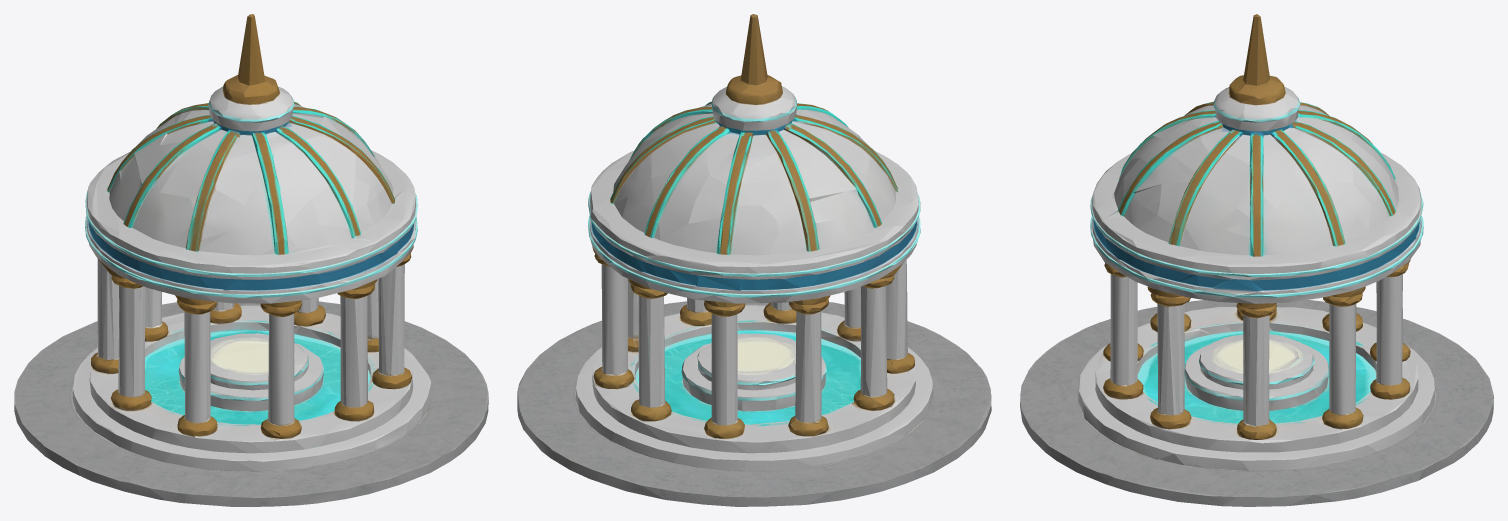
Rendered from hall.glb.
3 views of the same model, side by side, from view 1: azimuth 30°, elevation 25°; view 2: azimuth 150°, elevation 25°; view 3: azimuth 270°, elevation 25° (orthographic).
Parts seen in each view (by area): view 1: Mesh_0; view 2: Mesh_0; view 3: Mesh_0.
Part boxes in pixels (<box>): Mesh_0: <box>14,14,488,506</box>; Mesh_0: <box>517,14,991,506</box>; Mesh_0: <box>1020,14,1493,506</box>.
Bounding box in the file's own units: 1.9 × 1.74 × 1.9.
Materials: 1 (1 with a texture image).
